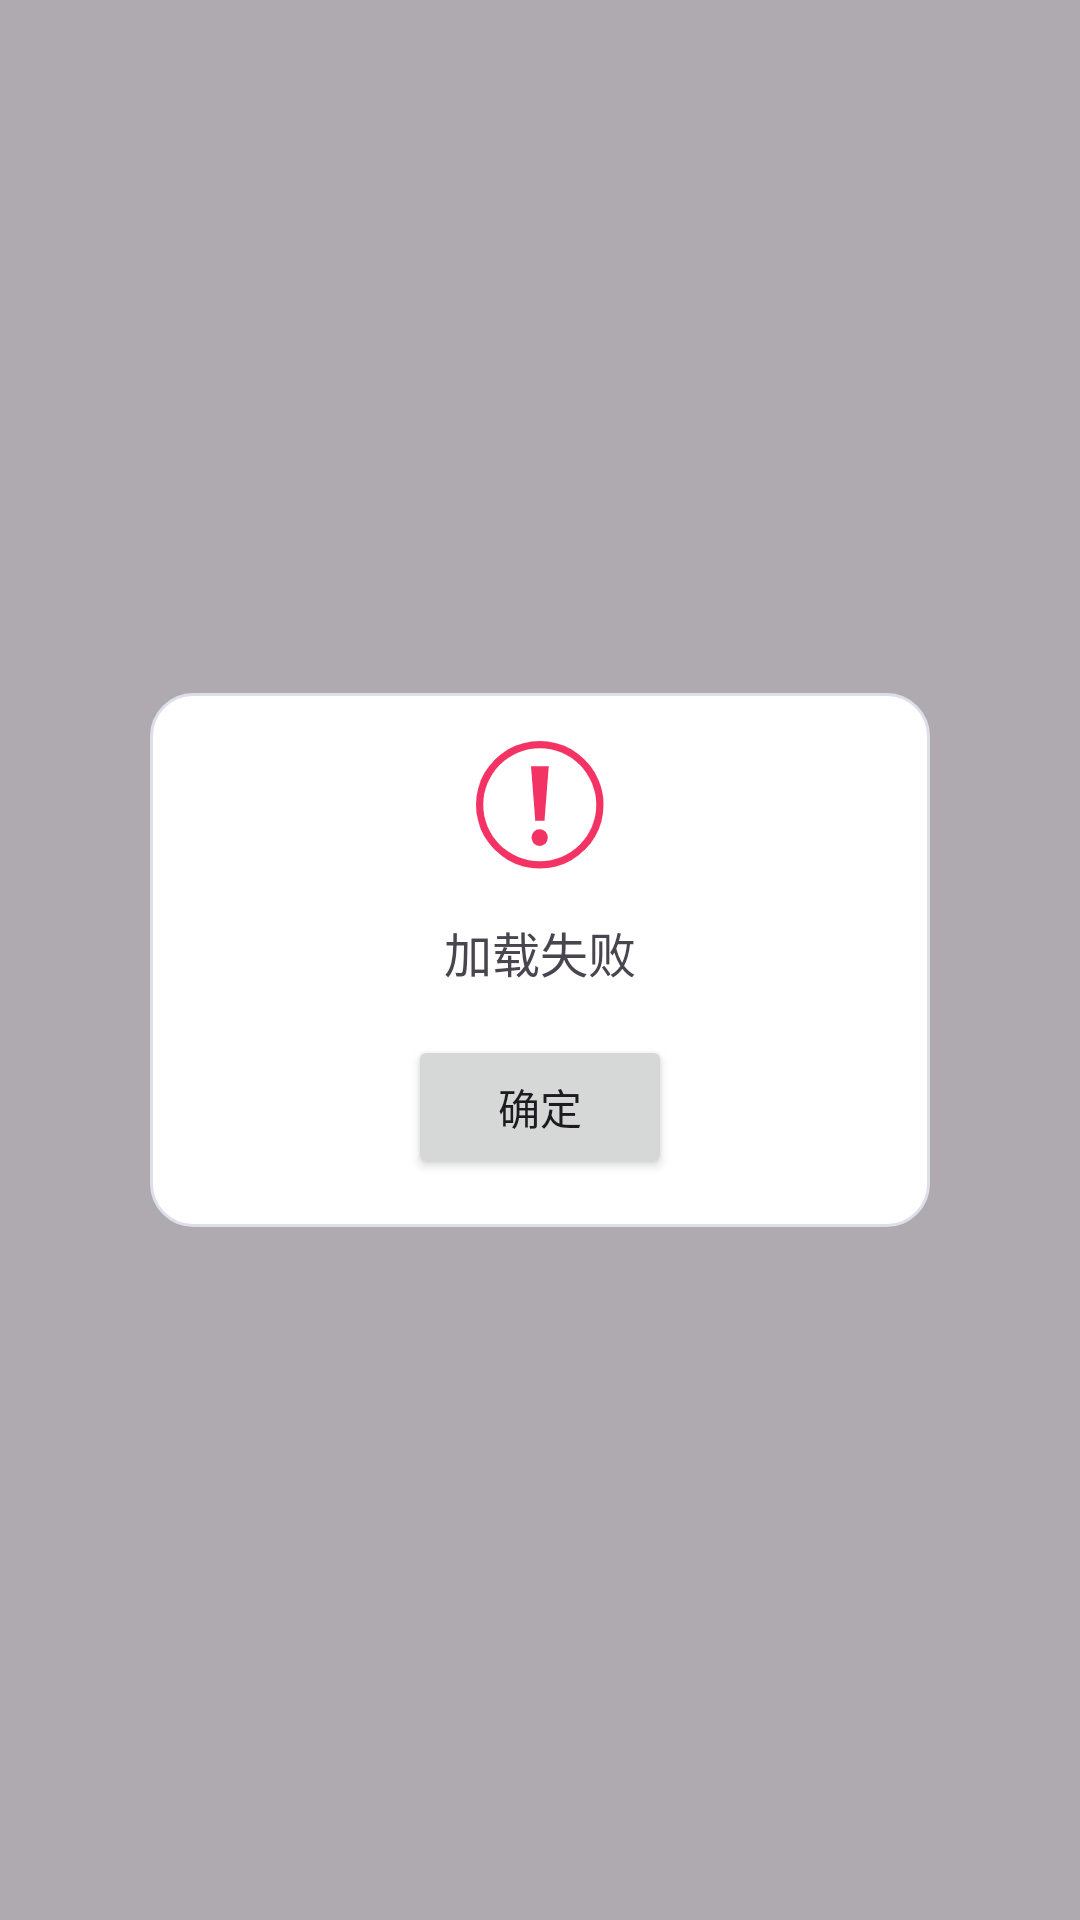

Icon bounding boxes for this 1080px×1920px phone screenshot, format (x1, y1, x2, y2):
error: (476, 741, 604, 869)
